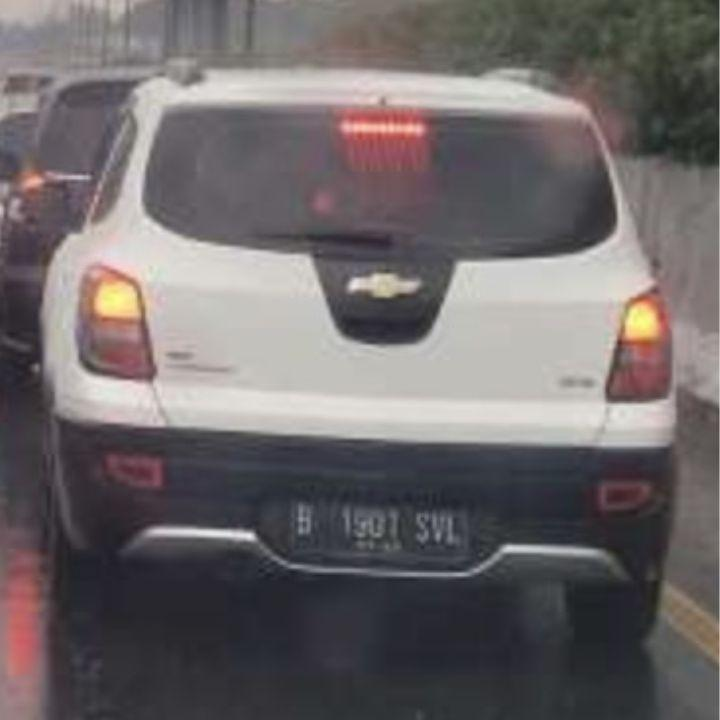plat: (288, 498, 472, 557)
